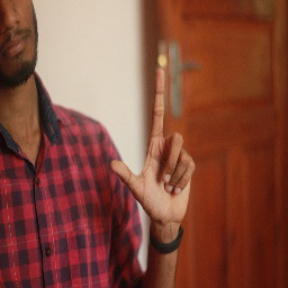L: (108, 66, 201, 219)
